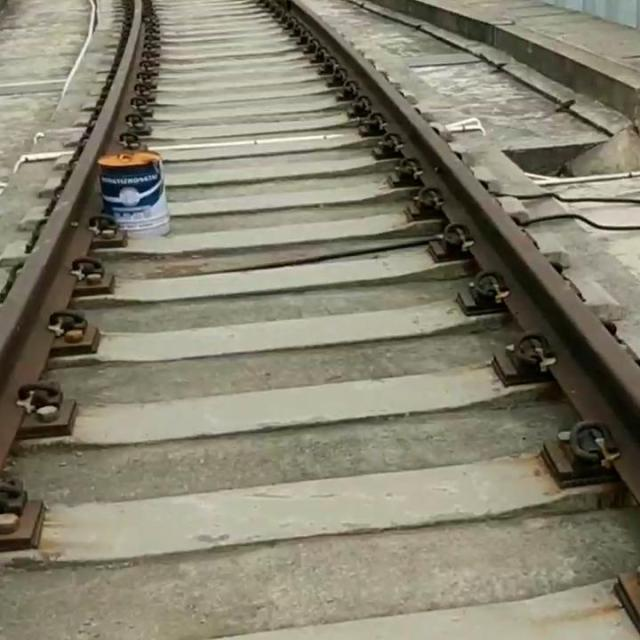danger: (94, 142, 183, 241)
rail: (253, 0, 640, 640), (0, 0, 169, 602)
